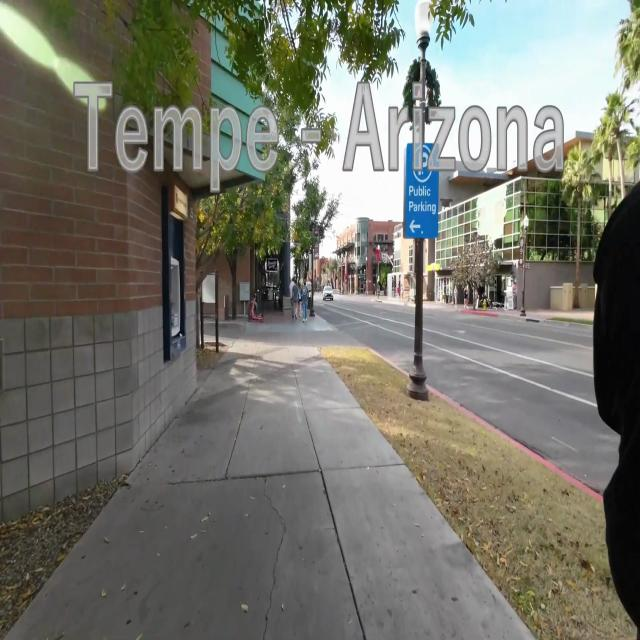road: (423, 302, 620, 495), (322, 295, 415, 376)
side walk: (0, 349, 538, 639)
street sign: (403, 103, 439, 391)
